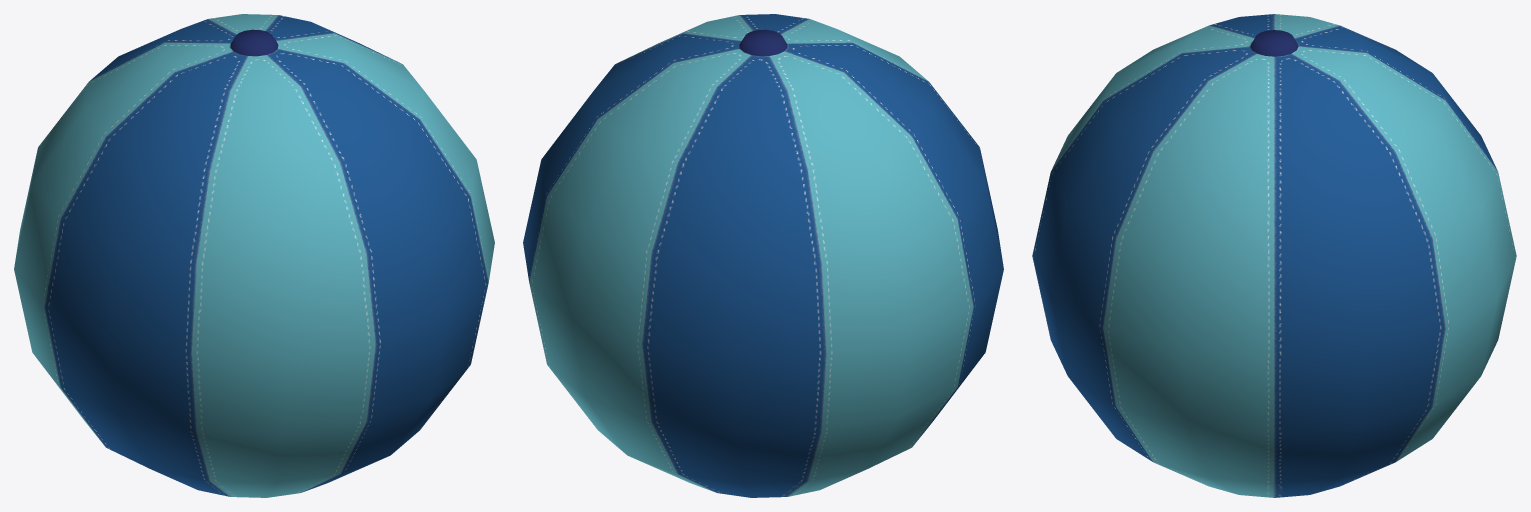
The model's file is Pelota.fbx.
3 views of the same model, side by side, from view 1: azimuth 30°, elevation 25°; view 2: azimuth 150°, elevation 25°; view 3: azimuth 270°, elevation 25° (orthographic).
Parts seen in each view (by area): view 1: Pelota; view 2: Pelota; view 3: Pelota.
Part boxes in pixels (x1=…): Pelota: x1=14, y1=14, x2=494, y2=497; Pelota: x1=523, y1=14, x2=1003, y2=497; Pelota: x1=1032, y1=14, x2=1516, y2=497.
Size of the model in its own units: 1.29 by 1.3 by 1.29.
